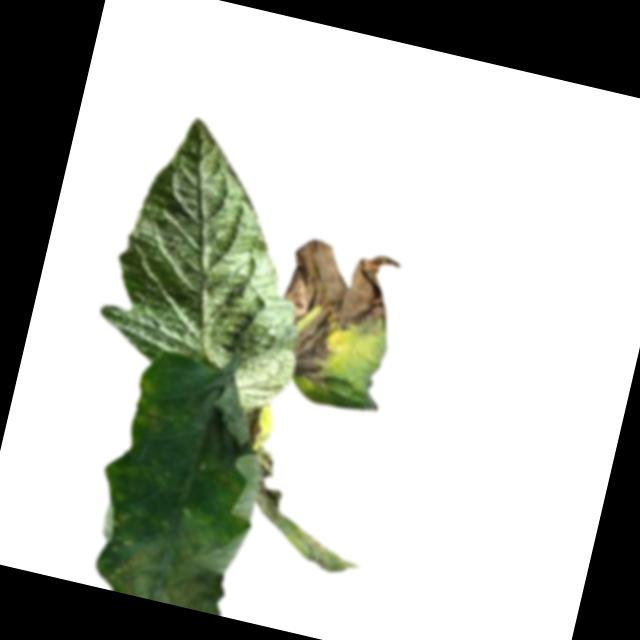Late_blight: (259, 232, 403, 401), (97, 497, 240, 615), (219, 400, 307, 529), (285, 527, 365, 578)
healthy: (86, 108, 346, 413)
